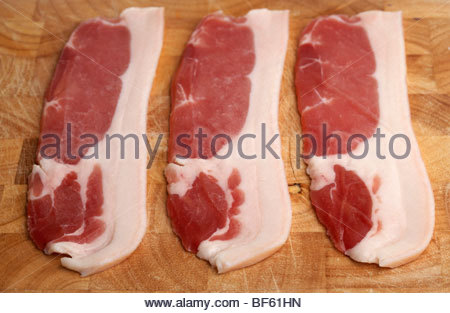bacon: (299, 10, 429, 260), (179, 1, 294, 278), (30, 14, 148, 263)
